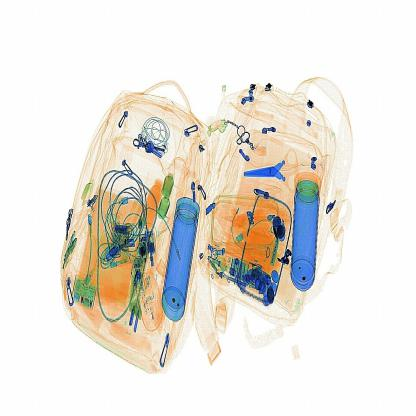gun: (247, 156, 298, 185)
